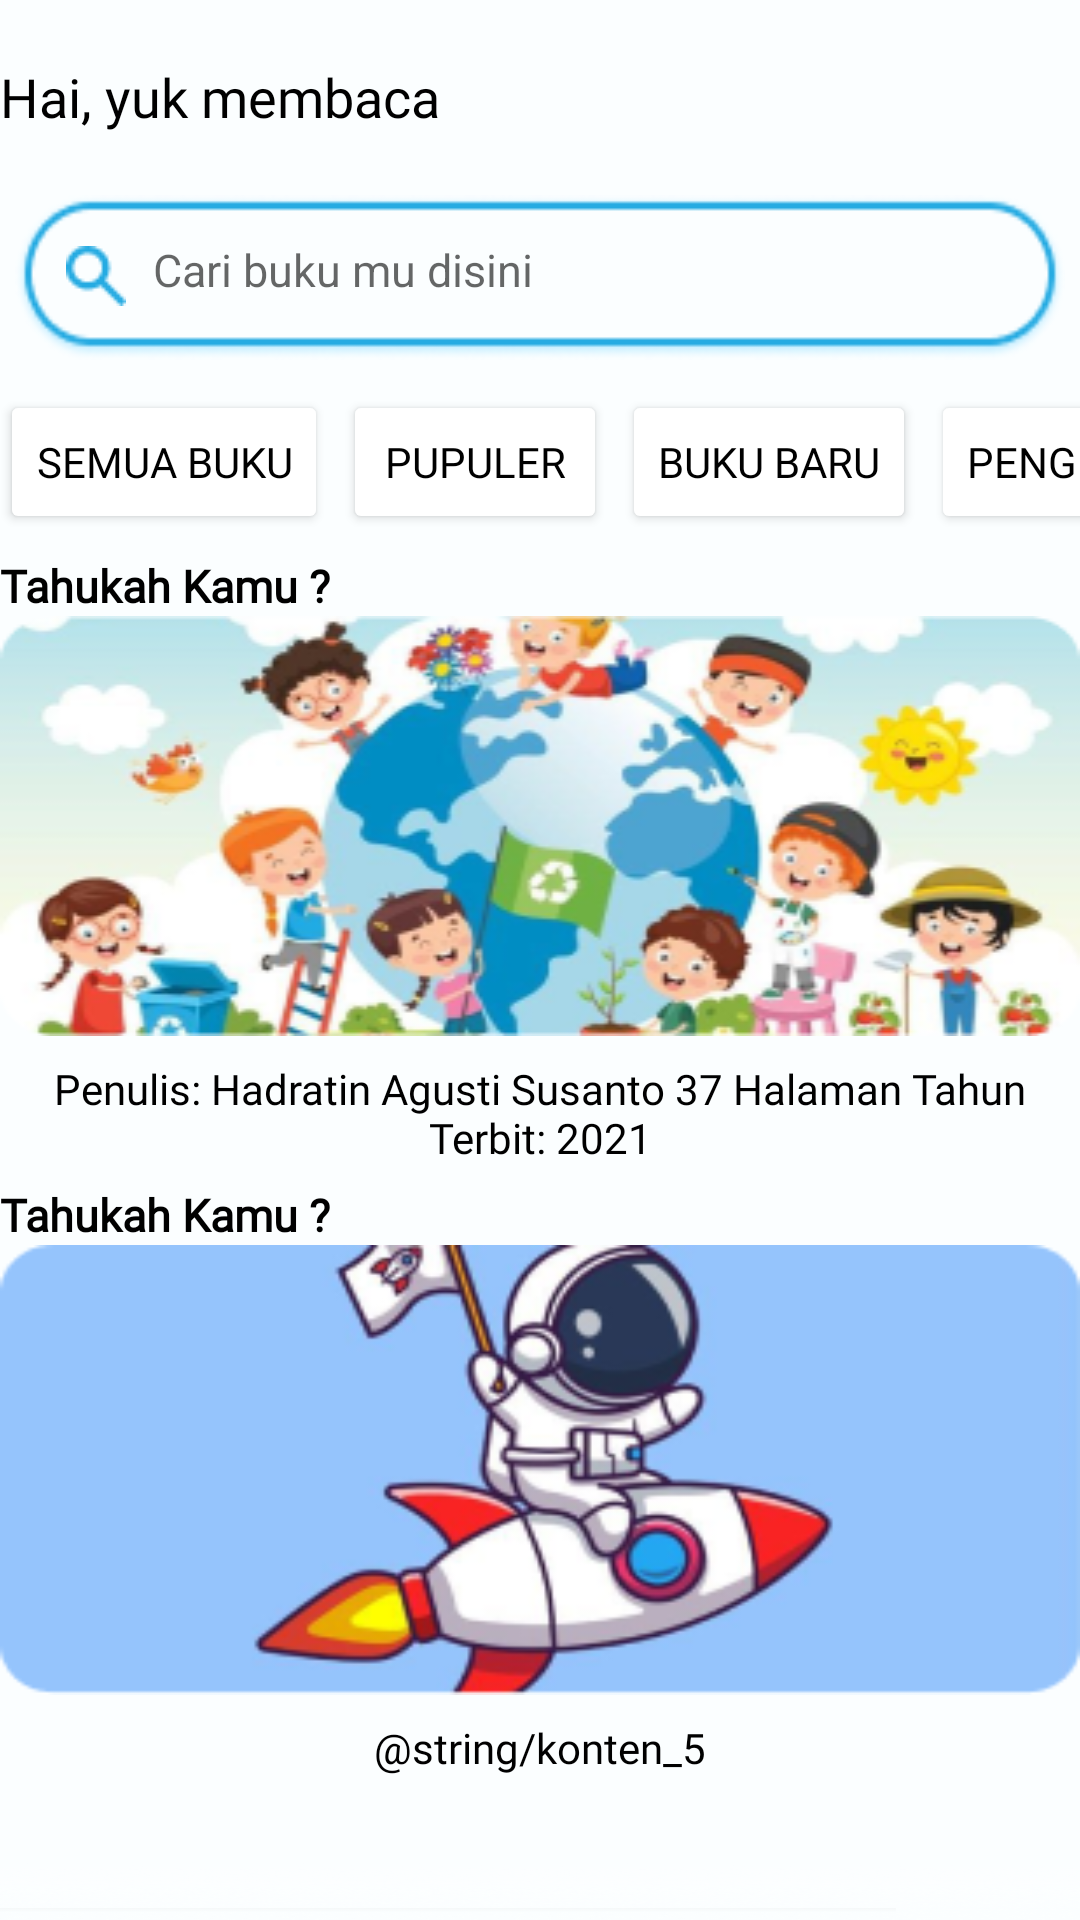

Named icons in this screenshot (1080px x 1920px) and their centers, point (x, y):
searchicon: point (96, 276)
